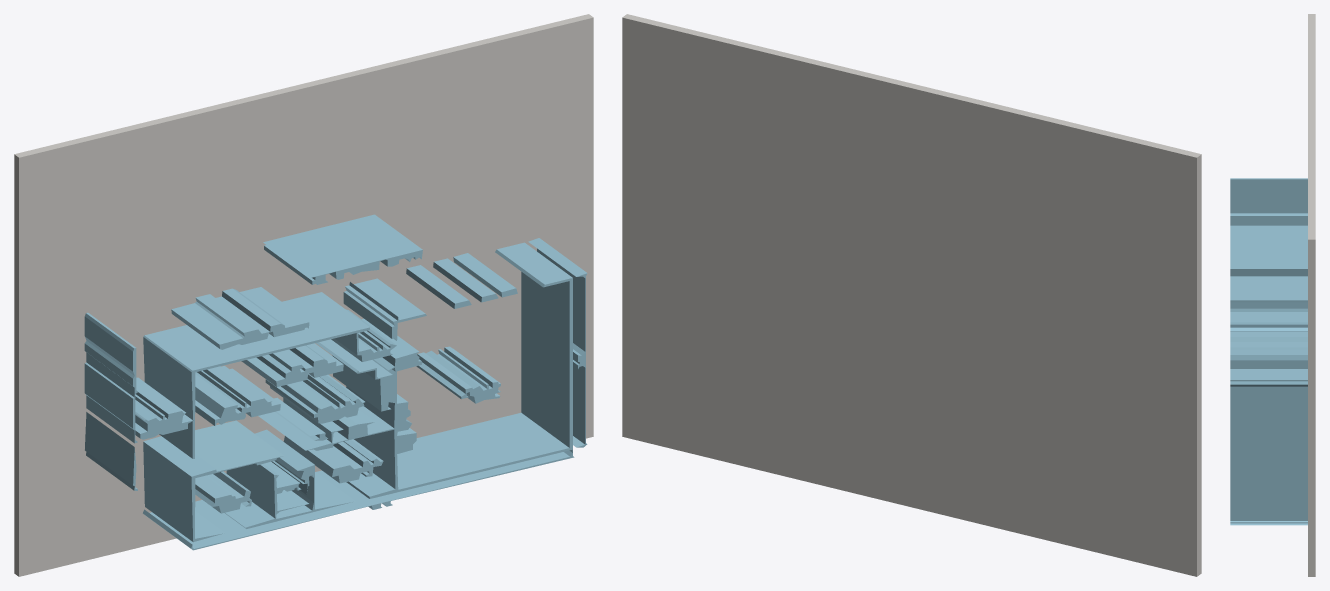
3 renders of one model, left to right at view 1: azimuth 30°, elevation 25°; view 2: azimuth 150°, elevation 25°; view 3: azimuth 270°, elevation 25°, orthographic. The views are drawn at different scales.
Visible parts, largest first — view 1: world; view 2: world; view 3: world.
Boxes of the visible parts, x1=… form: world: x1=14, y1=14, x2=593, y2=576; world: x1=622, y1=14, x2=1201, y2=576; world: x1=1230, y1=14, x2=1315, y2=576.
Bounding box in the file's own units: 10.23 × 7.13 × 1.64.
